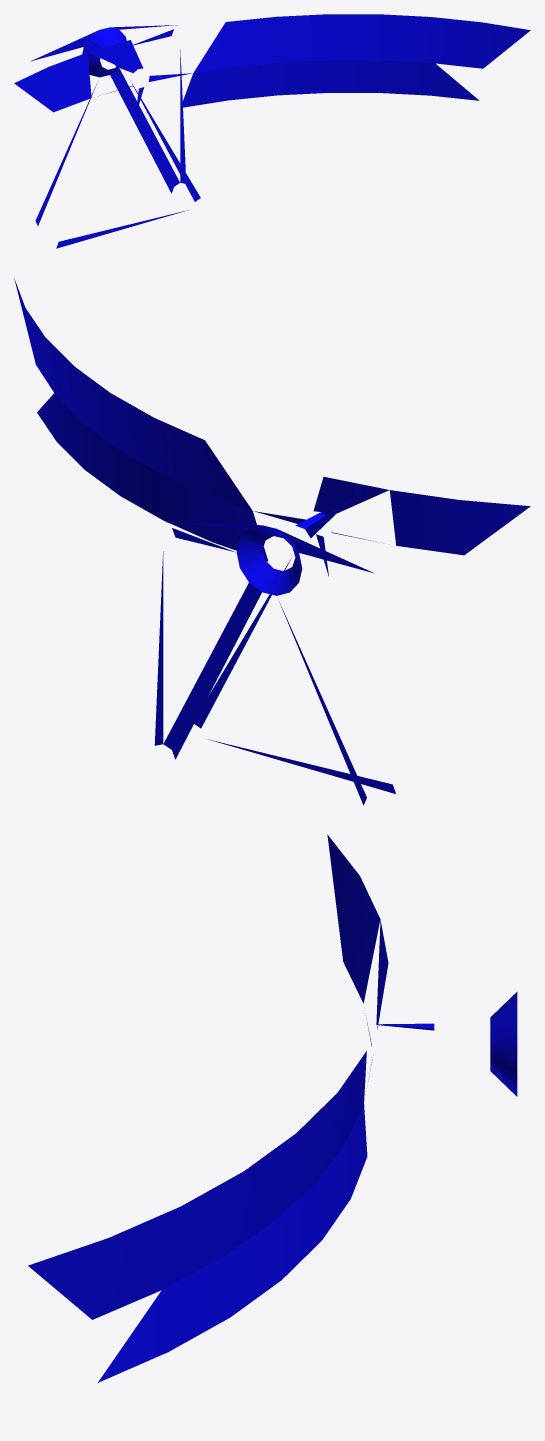
The picture shows the model from 3 angles, top to bottom: view 1: azimuth 30°, elevation 25°; view 2: azimuth 150°, elevation 25°; view 3: azimuth 270°, elevation 25°; orthographic projection. The views are drawn at different scales.
Visible parts, largest first — view 1: F19732000122019015600_001_zb_gestell_fa~2; view 2: F19732000122019015600_001_zb_gestell_fa~2; view 3: F19732000122019015600_001_zb_gestell_fa~2.
Part boxes in pixels (x1,y1,x2,y2): F19732000122019015600_001_zb_gestell_fa~2: [14, 14, 530, 248]; F19732000122019015600_001_zb_gestell_fa~2: [14, 279, 530, 805]; F19732000122019015600_001_zb_gestell_fa~2: [28, 834, 517, 1382].
Bounding box in the file's own units: 123 × 59 × 53.7.
